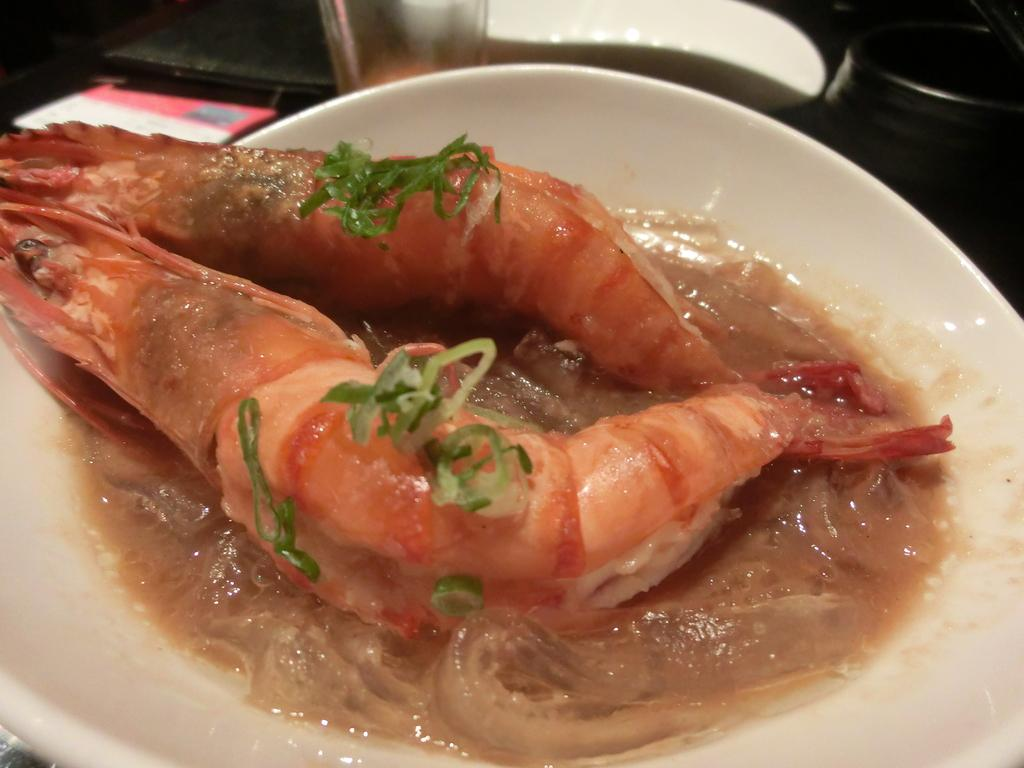Shrimp: (0, 204, 953, 643), (0, 114, 726, 394)
